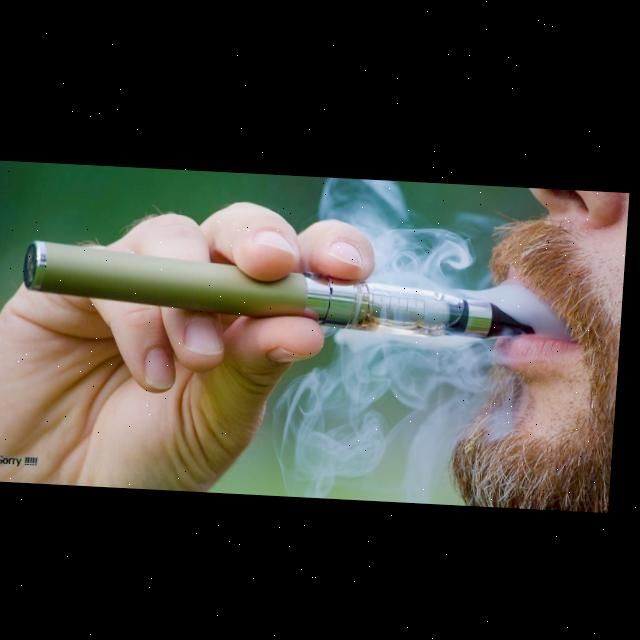vape: (23, 238, 543, 336)
